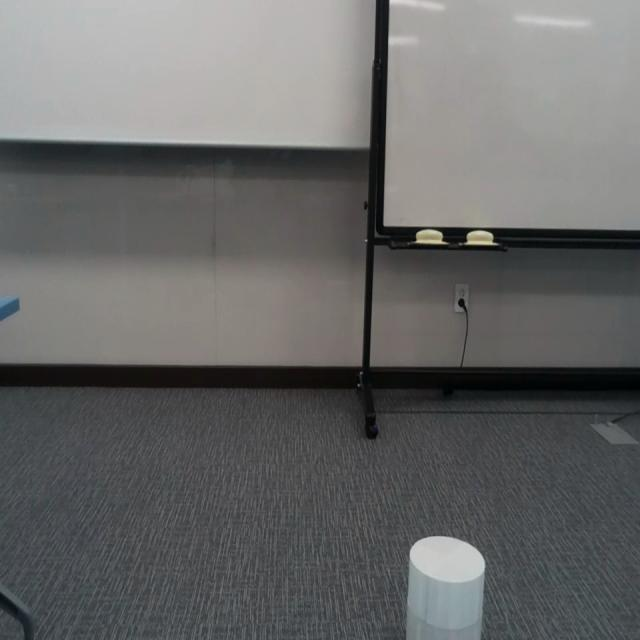cylinder: (406, 535, 486, 640)
